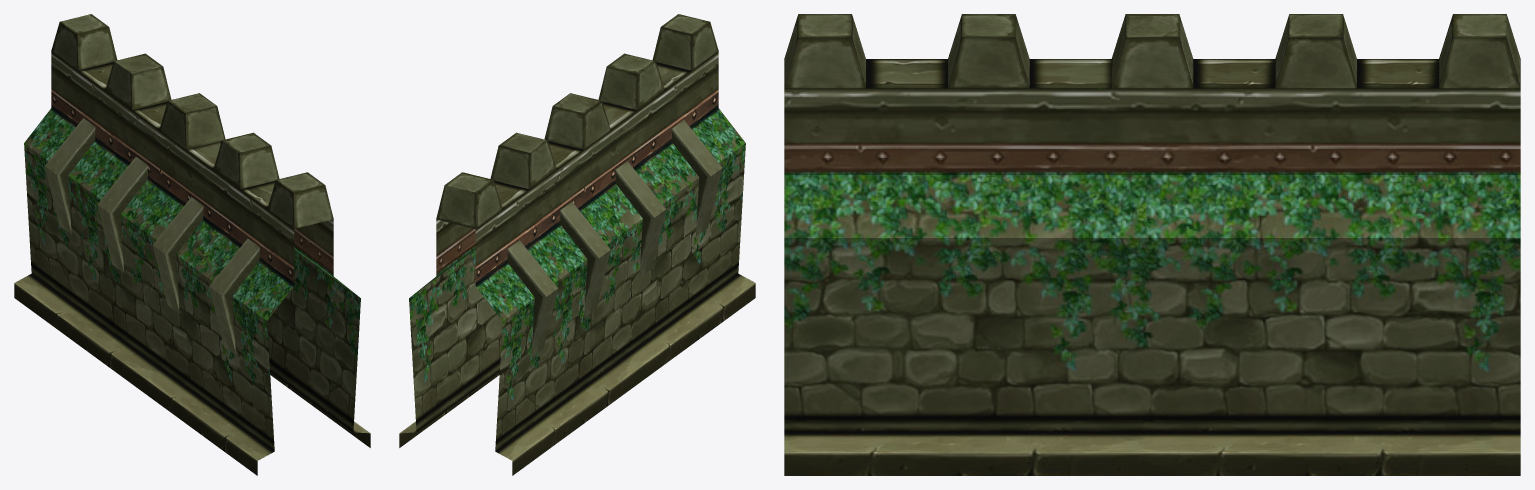
Rendered from wall_a.obj.
The picture shows the model from 3 angles, left to right: view 1: azimuth 30°, elevation 25°; view 2: azimuth 150°, elevation 25°; view 3: azimuth 270°, elevation 25°; orthographic projection. The views are drawn at different scales.
Size of the model in its own units: 4.3 by 9.65 by 15.77.
1 material, 1 textured.
